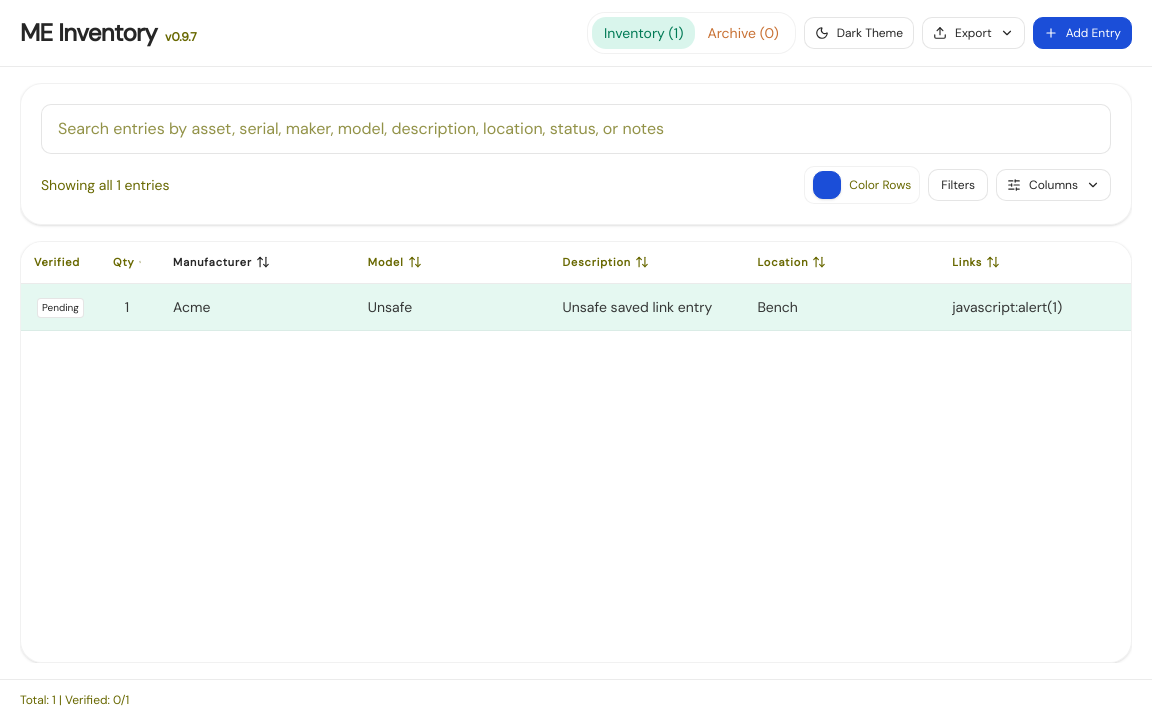
it: InventoryShell entry actions › does not open unsafe saved-link schemes
Step 1. Right-click the text "Unsafe saved link entry" → (644, 307), box x1=563 y1=297 x2=725 y2=317
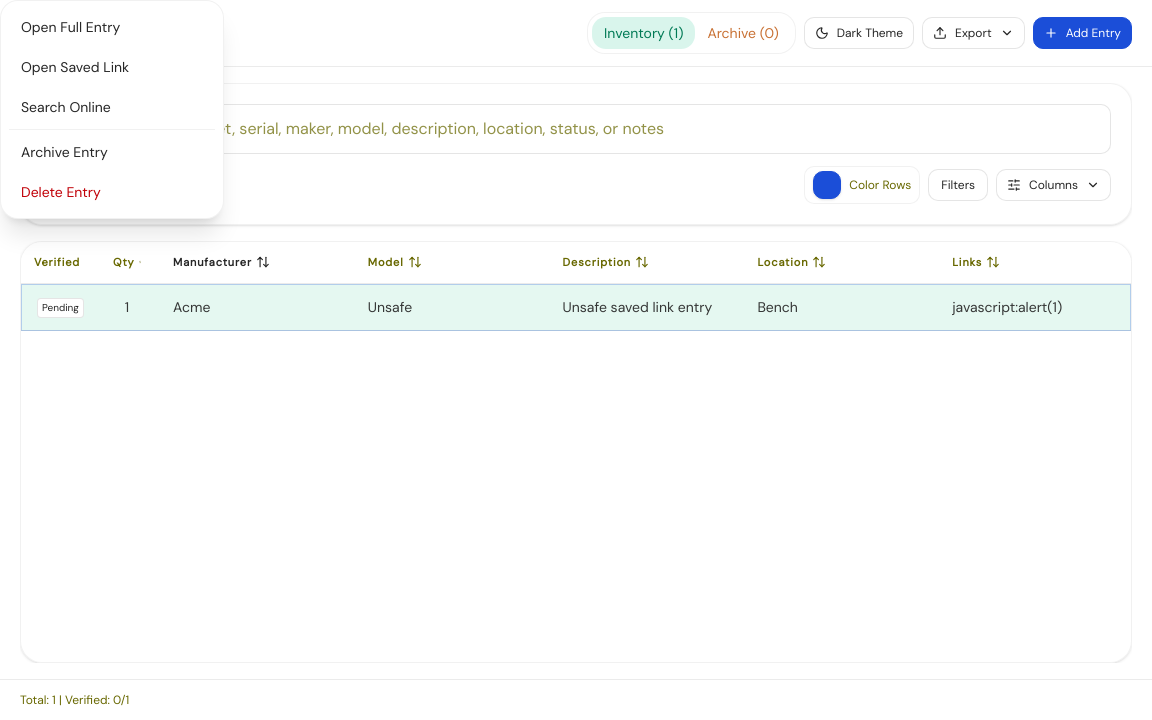
Step 2. Click the button "Open Saved Link" → (112, 67), box x1=9 y1=49 x2=215 y2=85
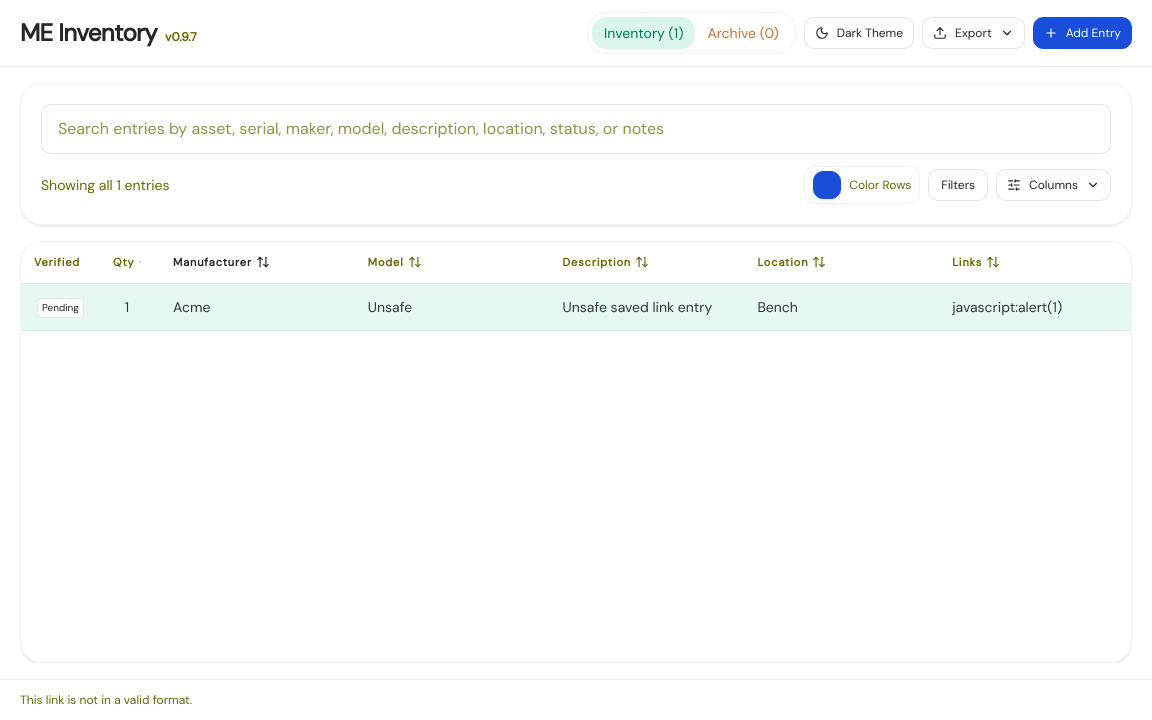
Expected: the text "This link is not in a valid format." is shown, x1=0 y1=679 x2=1151 y2=719
